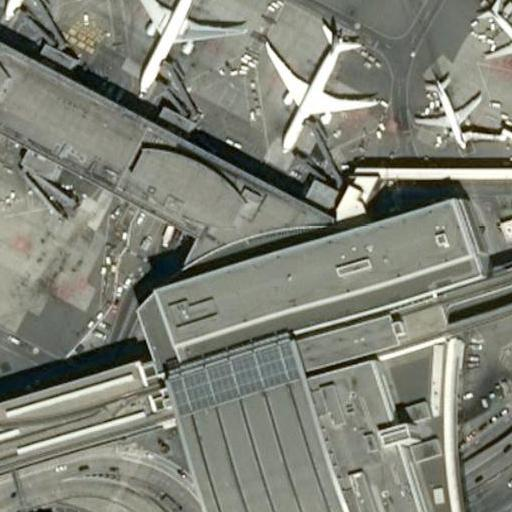Aircraft: (256, 20, 378, 151), (117, 0, 237, 94), (413, 70, 483, 146), (475, 0, 512, 80), (0, 0, 107, 18)
